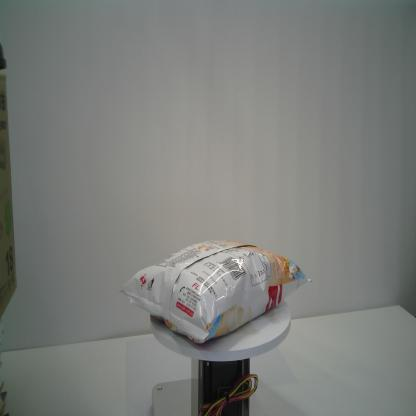Puffed Food: (119, 238, 314, 348)
